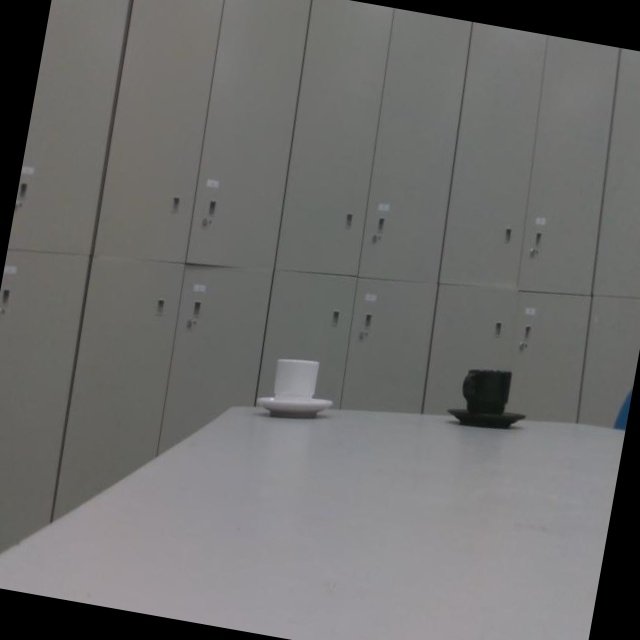black: (449, 367, 530, 436)
white: (260, 347, 337, 421)
